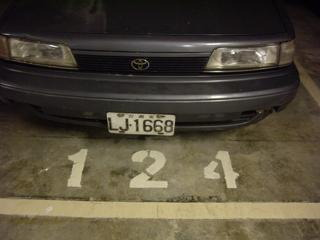plate: (104, 110, 177, 137)
